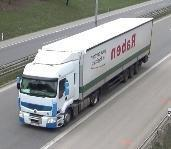Truck: (14, 19, 153, 130)
